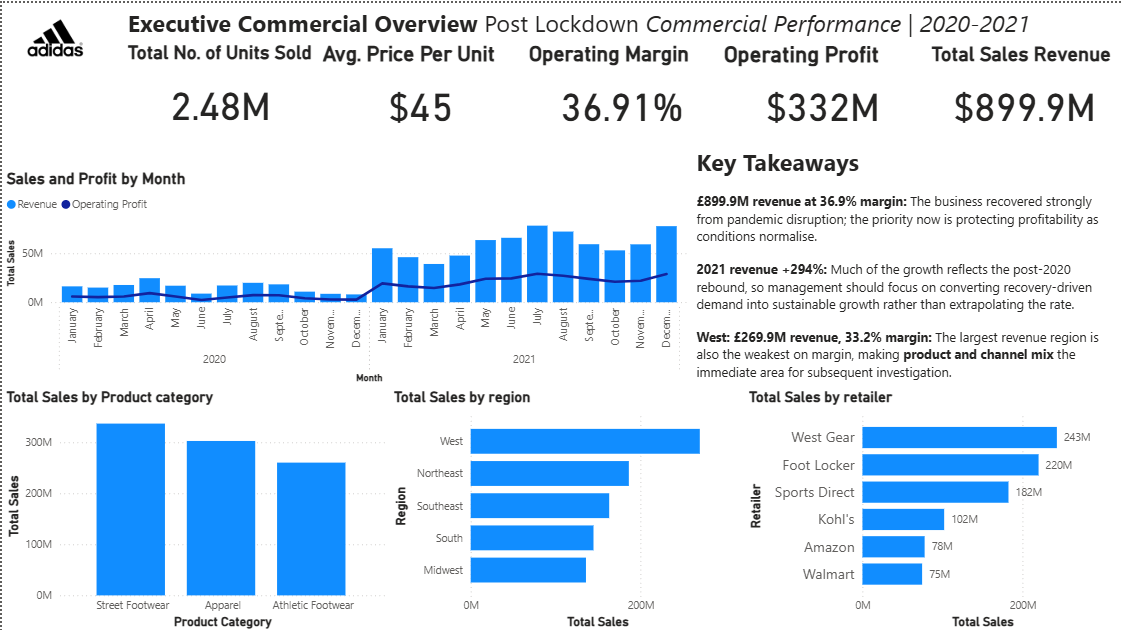

Layout of this report page (visuals, bound fields, positions):
{"tool":"powerbi","page":{"name":"Executive  Overview","canvas":[1280,720],"ordinal":0},"visuals":[{"type":"card","title":"Total Sales Revenue","fields":{"Values":["adidas_sales.adidas Total Sales"]},"box":[1056.7,45,223.3,113.3],"z":0},{"type":"card","title":"Operating Profit","fields":{"Values":["adidas_sales.adidas Operating Profit"]},"box":[820,45,236.7,113.3],"z":1000},{"type":"card","title":"Operating Margin","fields":{"Values":["adidas_sales.adidas Operating Margin"]},"box":[596.7,45,223.3,113.3],"z":2000},{"type":"card","title":"Total No. of Units Sold","fields":{"Values":["adidas_sales.Total Units Sold"]},"box":[138.3,45,223.3,113.3],"z":3000},{"type":"card","title":"Avg. Price Per Unit","fields":{"Values":["adidas_sales.adidas Average Price"]},"box":[361.7,45,235,113.3],"z":4000},{"type":"lineClusteredColumnComboChart","title":"Sales and Profit by Month","fields":{"Y":["adidas_sales.adidas Total Sales"],"Y2":["adidas_sales.adidas Operating Profit"],"Category":["adidas_sales.invoice_date.Variation.Date Hierarchy.Year","adidas_sales.invoice_date.Variation.Date Hierarchy.Month"]},"box":[0,190,788.3,250],"z":5000},{"type":"clusteredColumnChart","title":" Total Sales by Product category","fields":{"Category":["adidas_sales.product_category"],"Y":["adidas_sales.adidas Total Sales"]},"box":[0,440,443.3,280],"z":6000},{"type":"clusteredBarChart","title":"Total Sales by region","fields":{"Category":["adidas_sales.region"],"Y":["adidas_sales.adidas Total Sales"]},"box":[443.3,440,405,280],"z":7000},{"type":"clusteredBarChart","title":"Total Sales by retailer","fields":{"Category":["adidas_sales.retailer"],"Y":["adidas_sales.adidas Total Sales"]},"box":[848.3,440,431.7,280],"z":8000},{"type":"image","box":[0,0,121,80],"z":9000},{"type":"textbox","box":[138.3,0,1101.7,45],"z":10000},{"type":"textbox","box":[788.3,158.3,491.7,281.7],"z":11000}]}

Visuals, with their boxes in screenshot pixels (x1, y1, x2, y2), scaled from the page's 1280x720 canvas onto the 1122x632 screenshot:
"Total Sales Revenue" card: 926/40/1121/139
"Operating Profit" card: 719/40/926/139
"Operating Margin" card: 523/40/719/139
"Total No. of Units Sold" card: 121/40/317/139
"Avg. Price Per Unit" card: 317/40/523/139
"Sales and Profit by Month" lineClusteredColumnComboChart: 0/167/691/386
" Total Sales by Product category" clusteredColumnChart: 0/386/389/631
"Total Sales by region" clusteredBarChart: 389/386/744/631
"Total Sales by retailer" clusteredBarChart: 744/386/1121/631
image: 0/0/106/70
textbox: 121/0/1087/40
textbox: 691/139/1121/386
